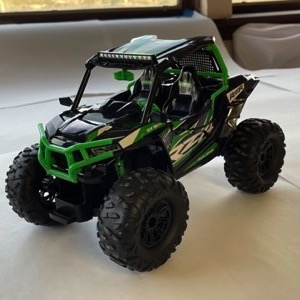polaris: (6, 33, 286, 274)
